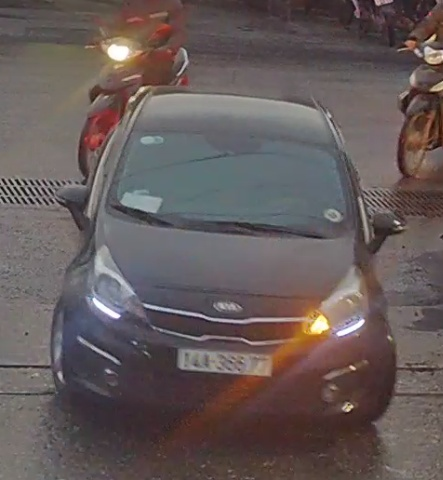vehicle plate: (172, 344, 278, 377)
